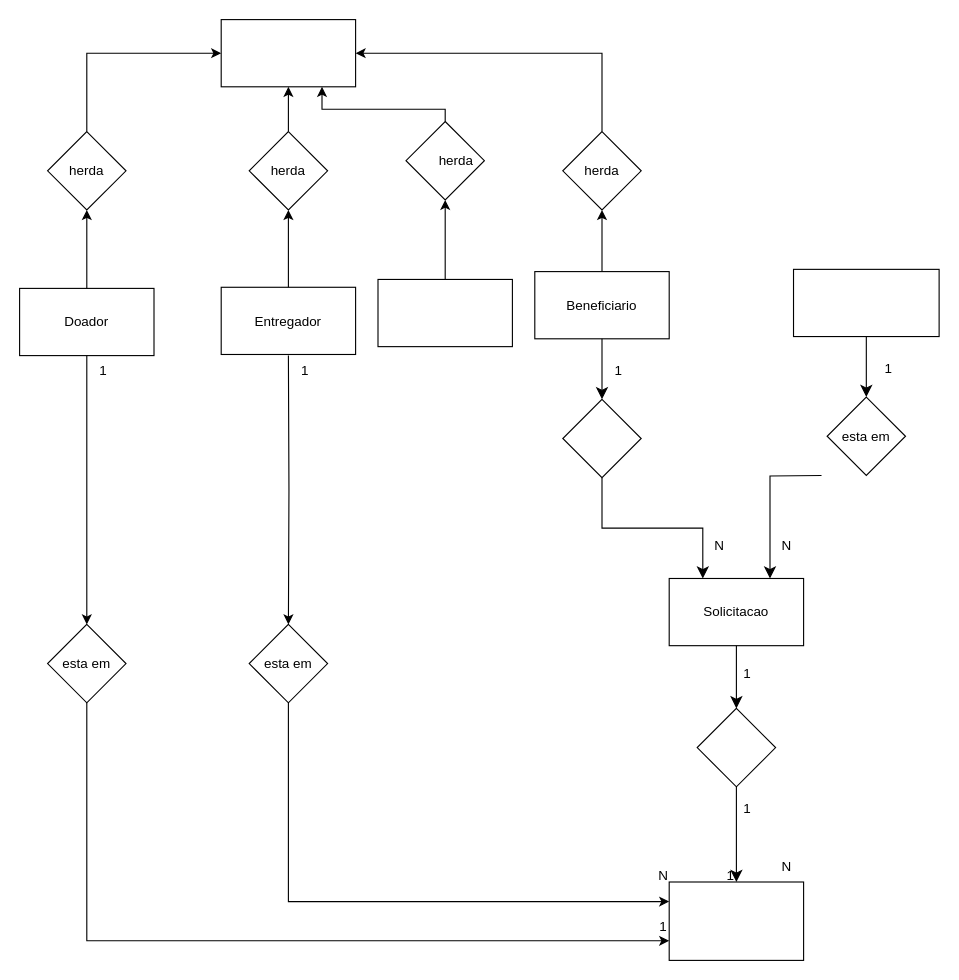
The diagram is 959 pixels wide and 980 high, and some of its shapes have lost their labels. Here are the shapes that lost their labels. From the top down, the centre of each, then its label:
At [288,52]: "Usuario".
At [444,312]: "Administrador".
At [865,302]: "ItemDoacao".
At [601,438]: "realiza".
At [736,747]: "gera".
At [736,920]: "DoacaoEfetivada".
